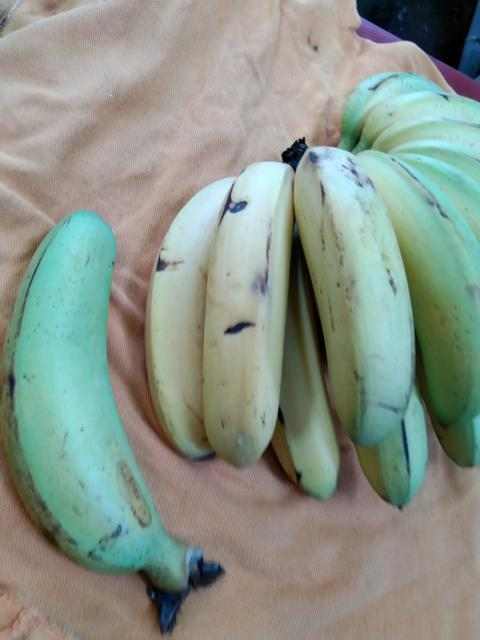ripe: (0, 209, 157, 577), (270, 151, 418, 450), (194, 149, 301, 459)
